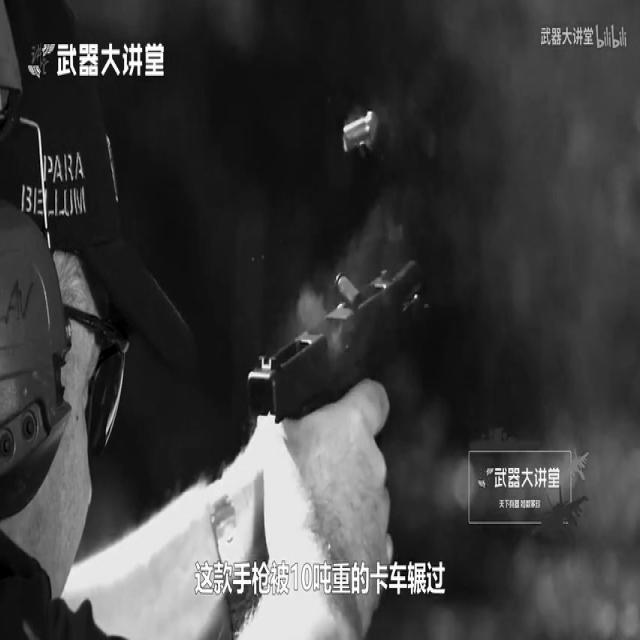Hand-Gun: (219, 210, 475, 547)
